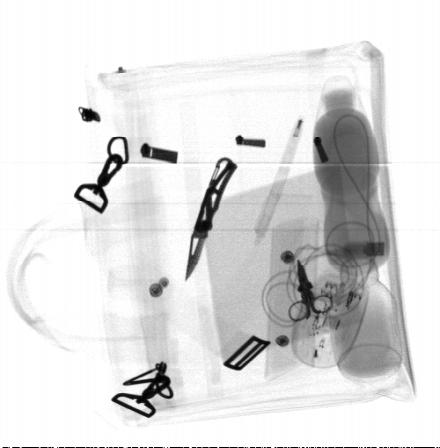Knife: (184, 158, 239, 284)
Scissors: (287, 259, 337, 322)
